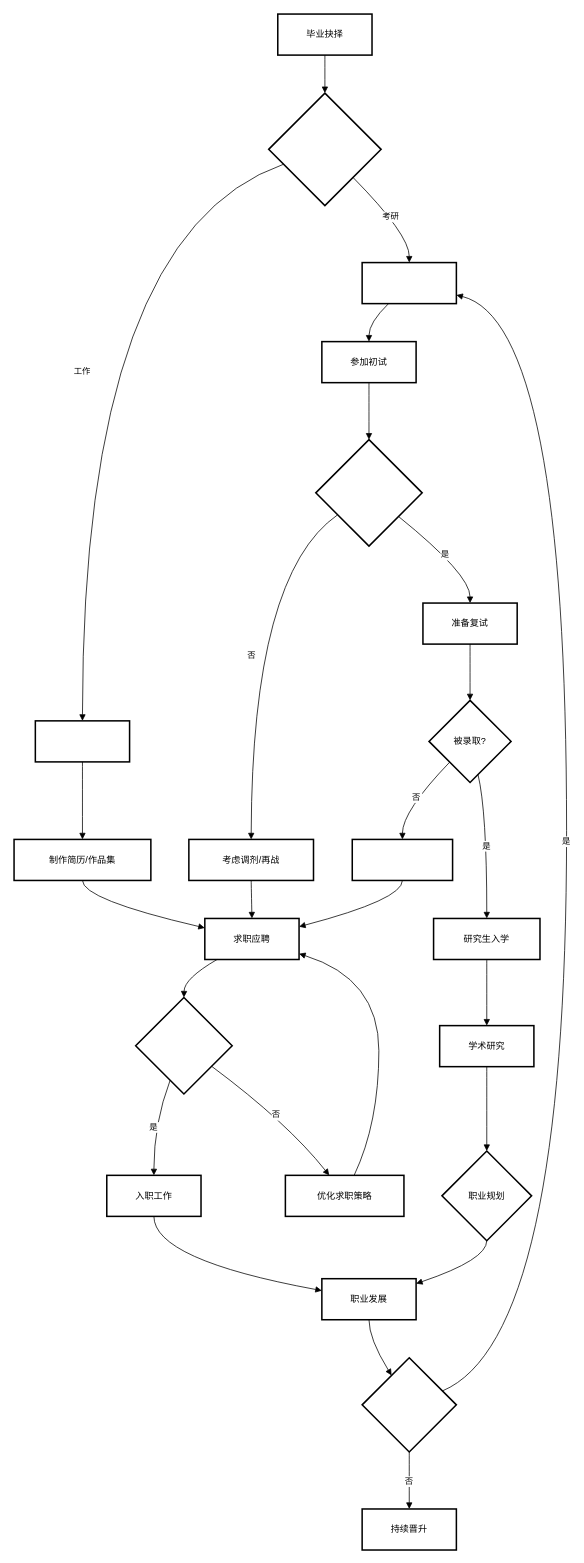
The diagram is 584 pixels wide and 1563 high, and some of its shapes have lost their labels. The centre of each missing label's shape, as x and y in pixels:
备考阶段: point (409, 282)
求职/再战: point (402, 859)
考研 or 工作?: point (325, 149)
考虑深造?: point (409, 1404)
职业准备: point (82, 741)
获得offer?: point (184, 1045)
通过国家线?: point (369, 492)
